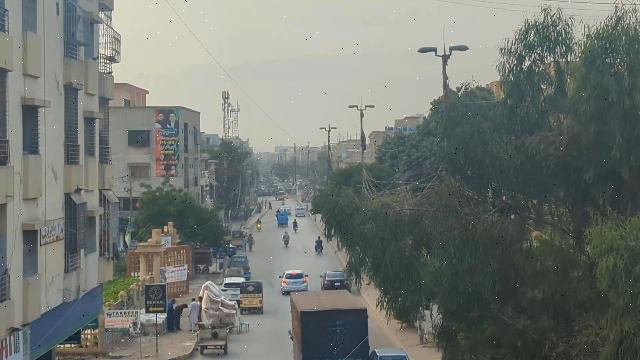Car: (279, 269, 310, 295), (320, 270, 351, 290), (370, 346, 409, 360), (220, 277, 243, 299)
Cart: (195, 326, 230, 356)
Person: (173, 300, 188, 331), (187, 297, 198, 332), (167, 297, 175, 331)
Rickshaw: (238, 280, 264, 314)
Truck: (286, 290, 373, 360)
